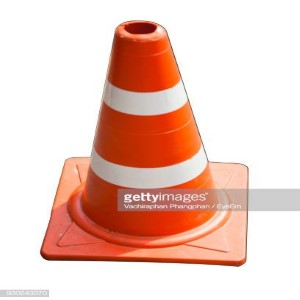traffic cone: (40, 20, 250, 267)
